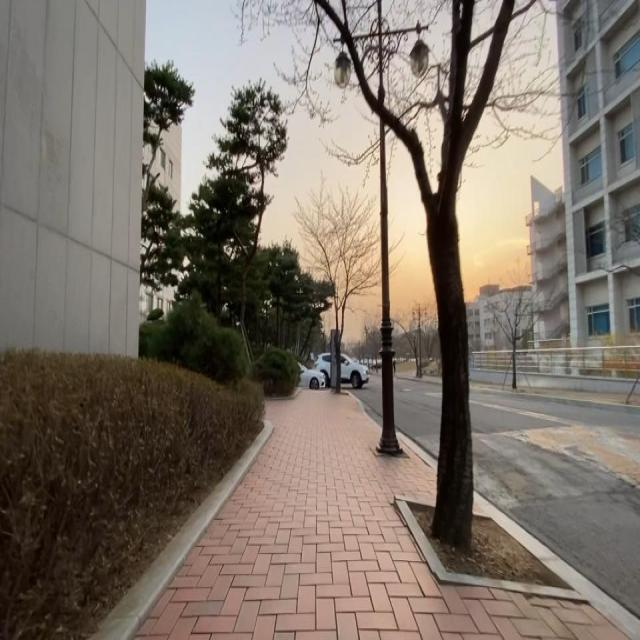sidewalk: (132, 390, 640, 640), (470, 382, 628, 404), (628, 395, 640, 405)
